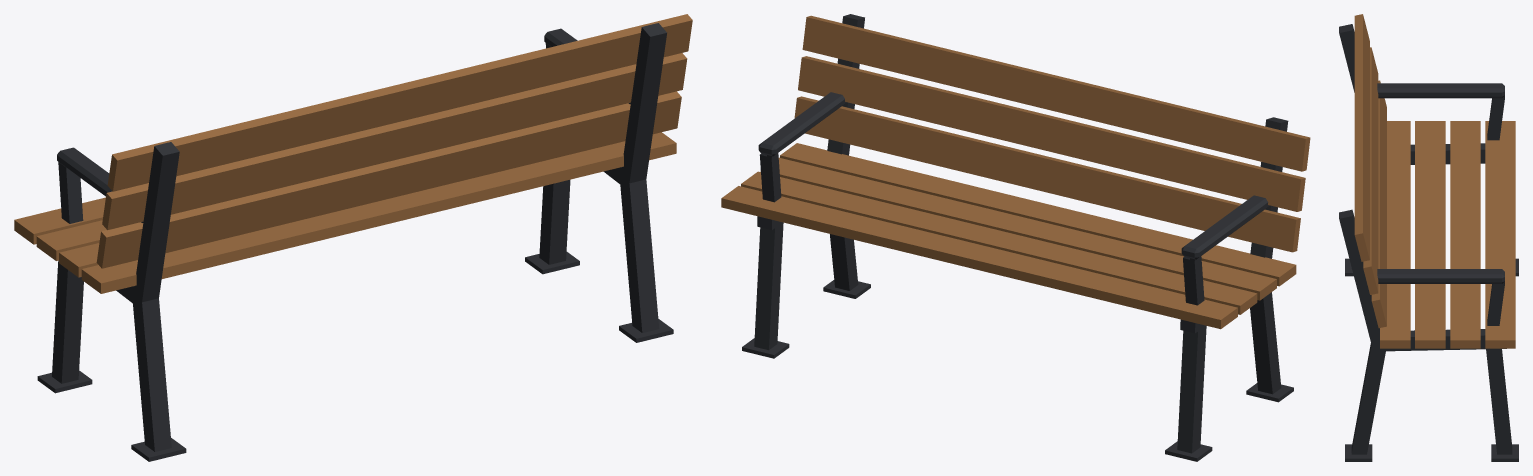
Rendered from prop_bench.glb.
The picture shows the model from 3 angles, left to right: view 1: azimuth 30°, elevation 25°; view 2: azimuth 150°, elevation 25°; view 3: azimuth 270°, elevation 25°; orthographic projection. The views are drawn at different scales.
Parts seen in each view (by area): view 1: prop_bench__mesh; view 2: prop_bench__mesh; view 3: prop_bench__mesh.
Part boxes in pixels (left/top/right/bottom): prop_bench__mesh: left=14, top=14, right=692, bottom=461; prop_bench__mesh: left=721, top=14, right=1310, bottom=461; prop_bench__mesh: left=1339, top=14, right=1518, bottom=461.
Bounding box in the file's own units: 1.7 × 0.8792 × 0.5889.
1 material, 1 textured.
